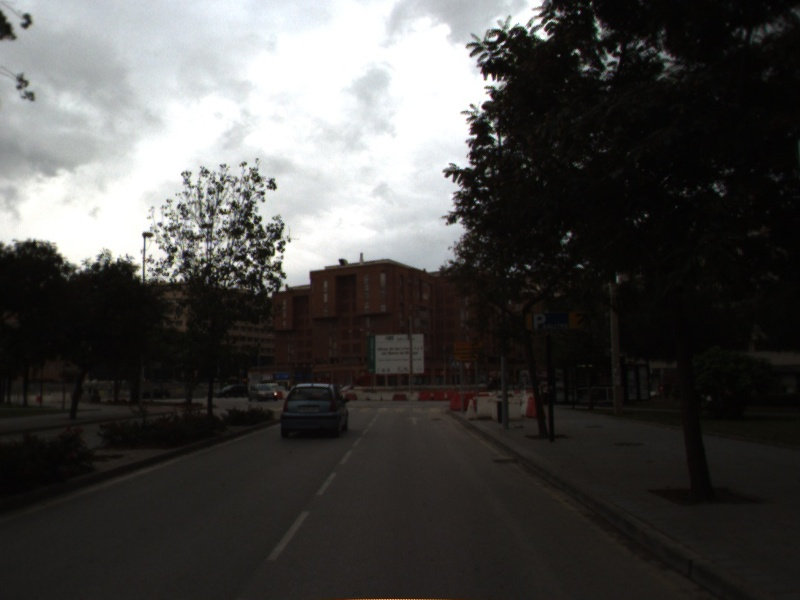STRAIGHT: (404, 414, 424, 426)
